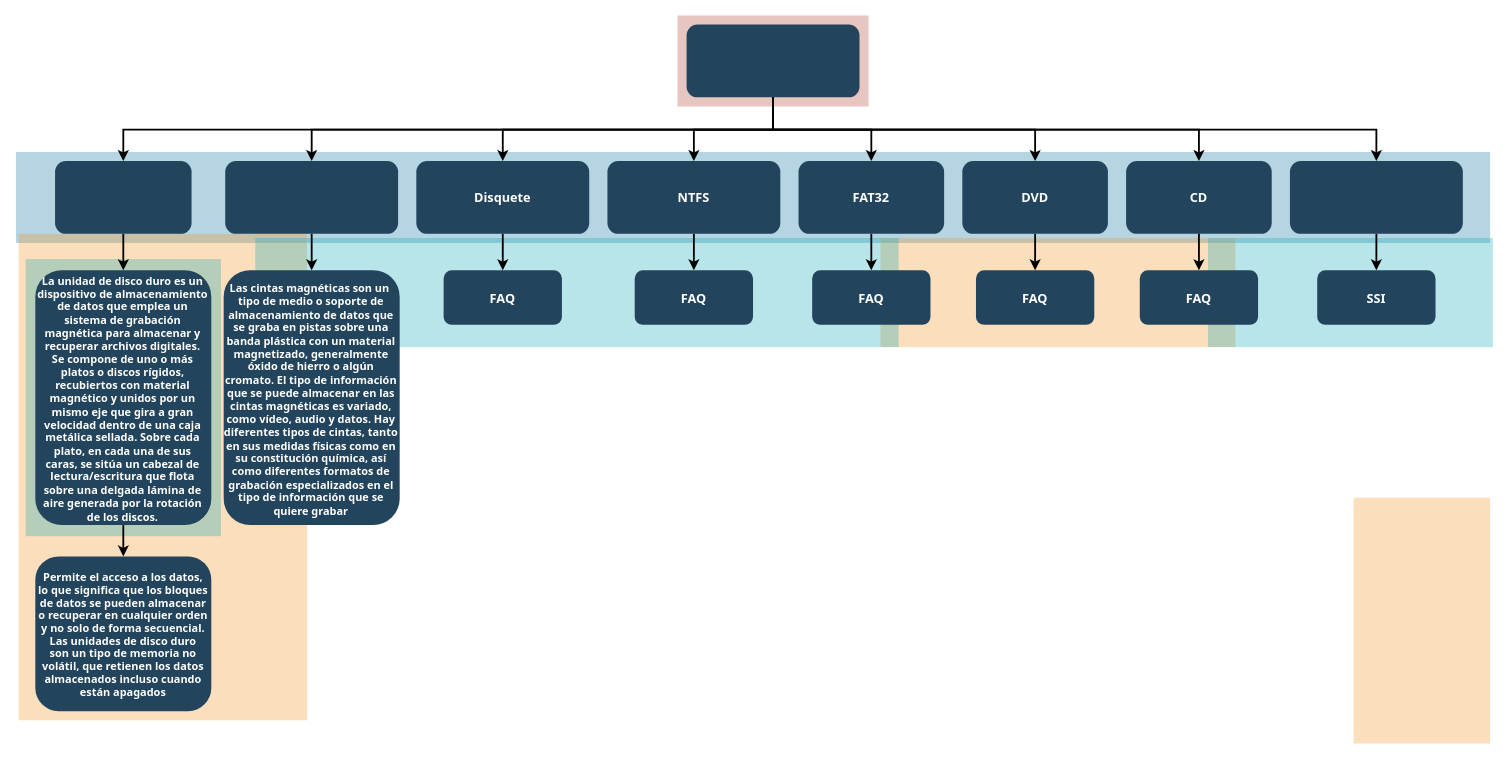
Some shapes in this 1508 by 759 pixel diagram are drawn without their labels. The shapes that lost their labels are listed below. From the top down, each one's centre as x and y in pixels, then its label:
point 772,60: Head of Development
point 123,197: HDD
point 311,197: Cintas Magnéticas
point 1375,197: SSD
